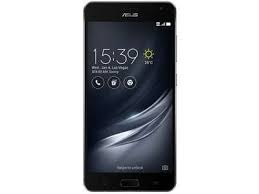asus: (77, 1, 181, 194)
